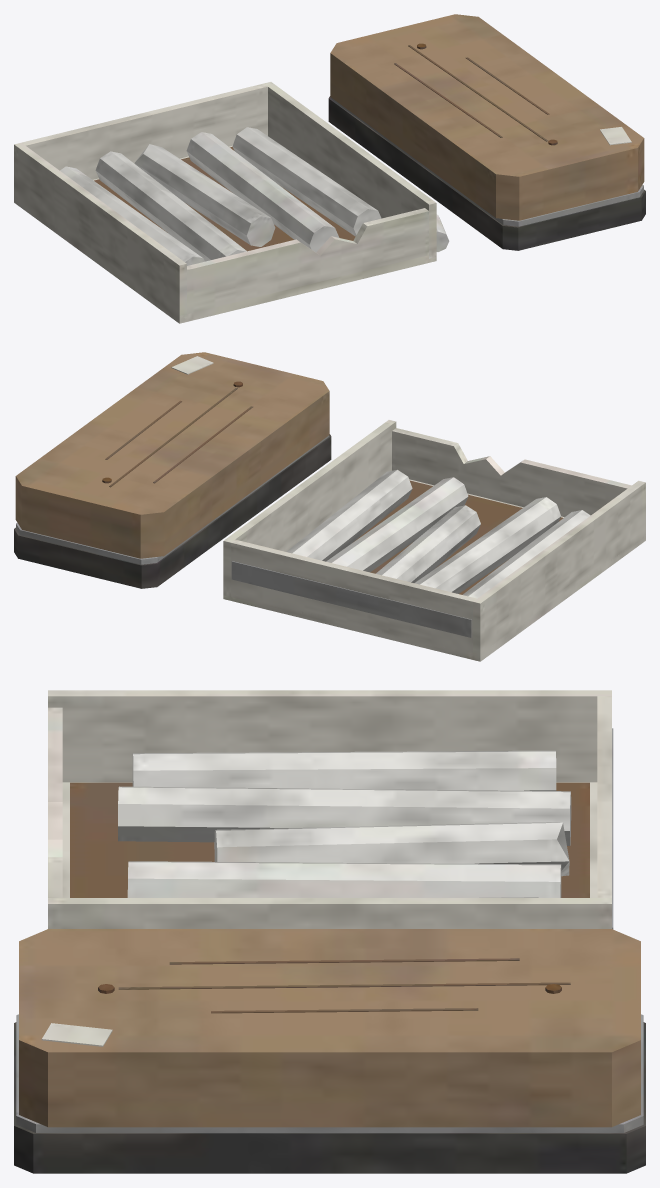
The model's file is SE01_chalk_and_duster.glb.
The picture shows the model from 3 angles, top to bottom: view 1: azimuth 30°, elevation 25°; view 2: azimuth 150°, elevation 25°; view 3: azimuth 270°, elevation 25°; orthographic projection. The views are drawn at different scales.
Visible parts, largest first — view 1: Carton_base; view 2: Carton_base; view 3: Carton_base.
Boxes of the visible parts, <box> form: Carton_base: <box>14,14,645,323</box>; Carton_base: <box>14,352,645,661</box>; Carton_base: <box>14,690,645,1173</box>.
Bounding box in the file's own units: 0.2 × 0.0306 × 0.1383.
7 materials, 7 textured.
